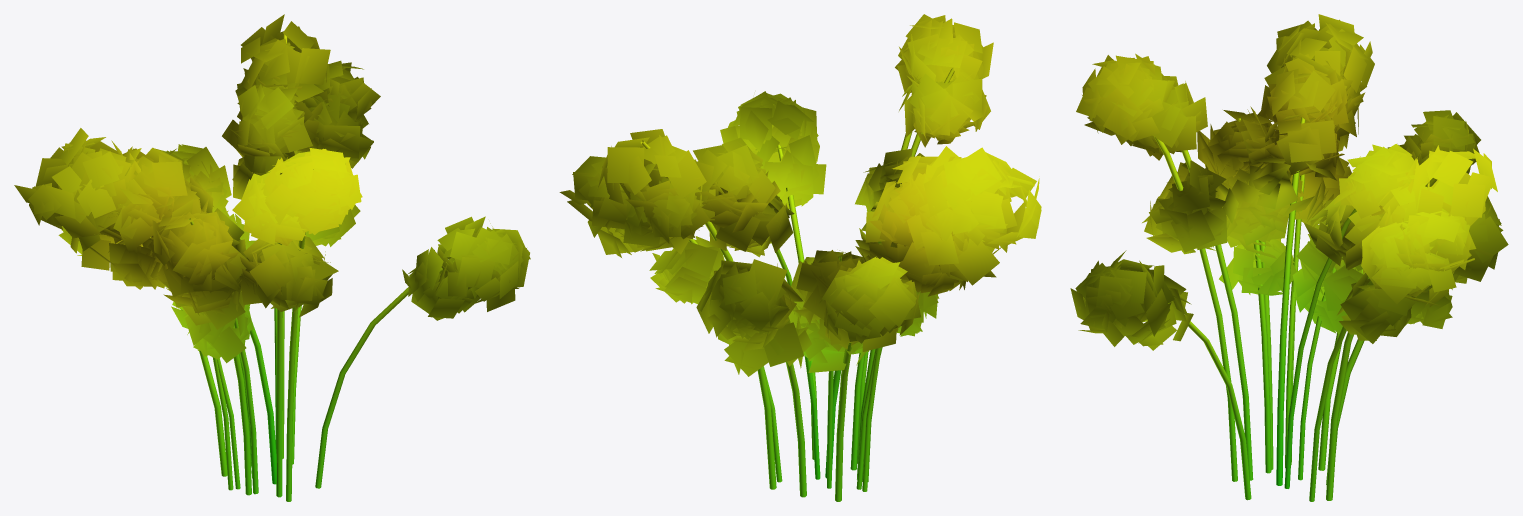
Rendered from bamboo_a.glb.
3 renders of one model, left to right at view 1: azimuth 30°, elevation 25°; view 2: azimuth 150°, elevation 25°; view 3: azimuth 270°, elevation 25°, orthographic. The views are drawn at different scales.
Visible parts, largest first — view 1: bamboo_a; view 2: bamboo_a; view 3: bamboo_a.
Part boxes in pixels (bbox=[...]): bamboo_a: bbox=[14, 14, 530, 501]; bamboo_a: bbox=[559, 14, 1041, 501]; bamboo_a: bbox=[1070, 14, 1508, 501].
Bounding box in the file's own units: 7.99 × 7.52 × 7.3.
